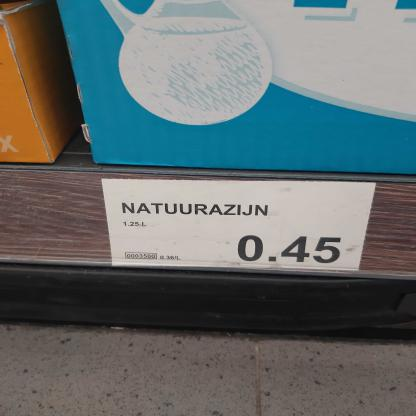prtg: (103, 180, 378, 272)
